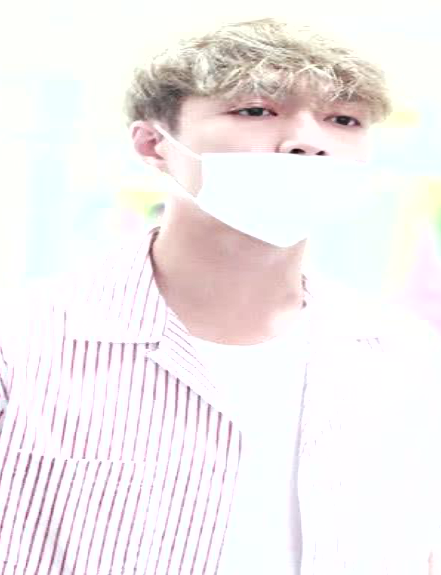mask_weared_incorrect: (173, 97, 379, 251)
